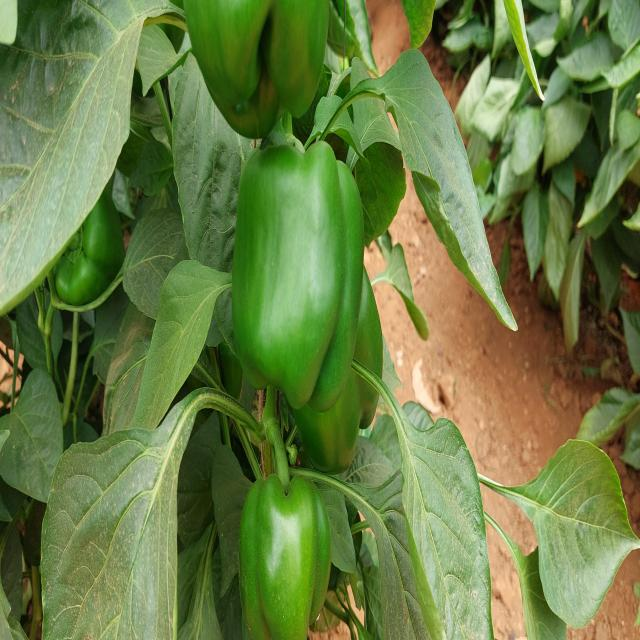Green--Not-ready-to-harvest: (224, 155, 368, 416), (184, 2, 343, 138), (231, 460, 337, 640)
